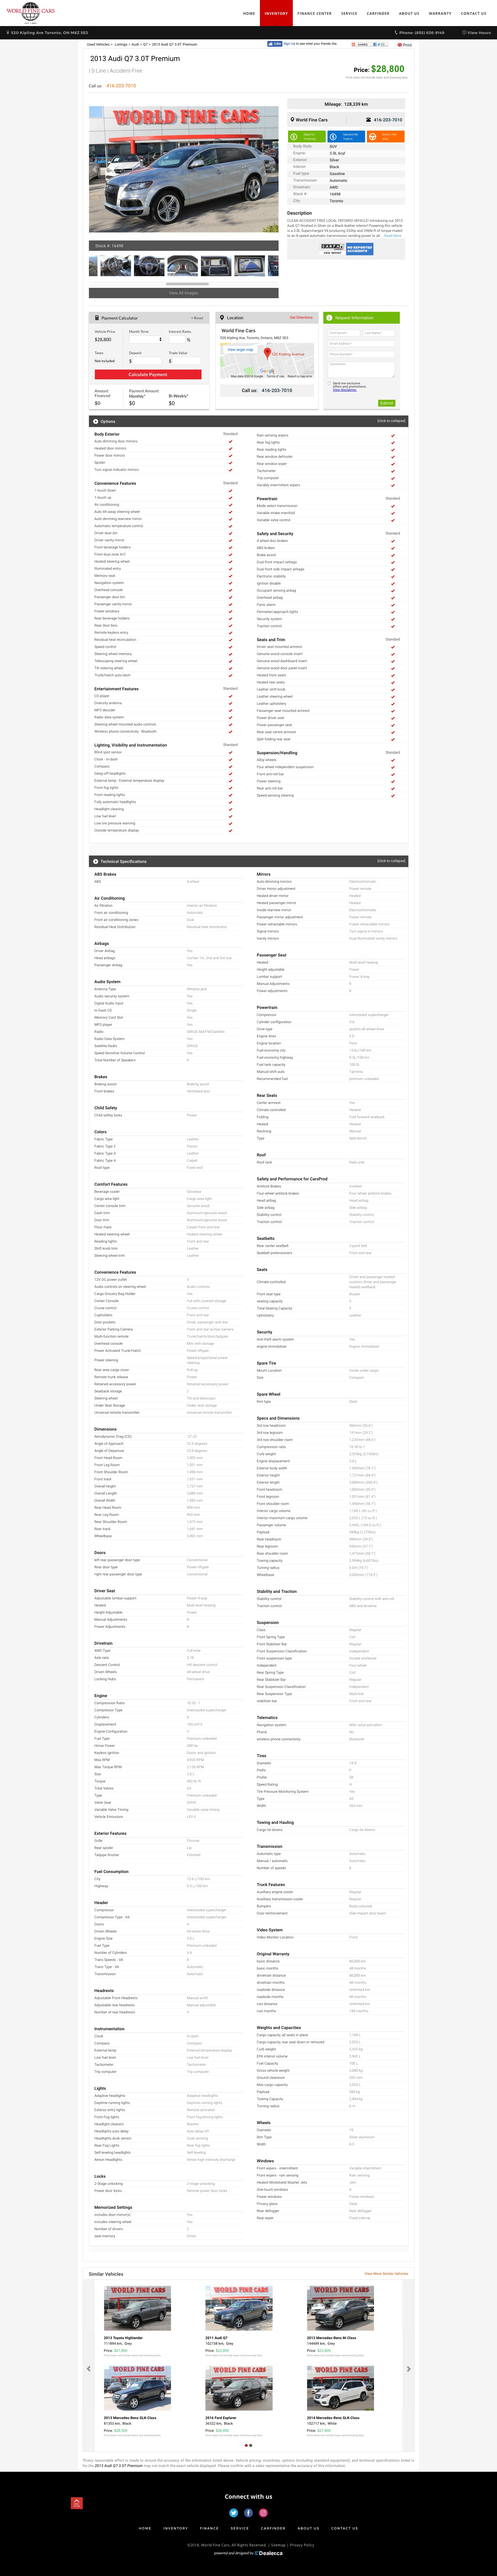car: (270, 166, 275, 172)
